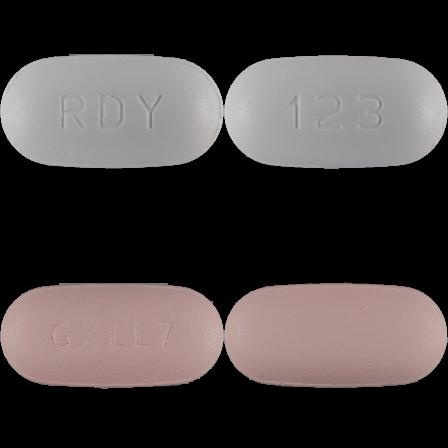53808-1008: (0, 0, 224, 224)
